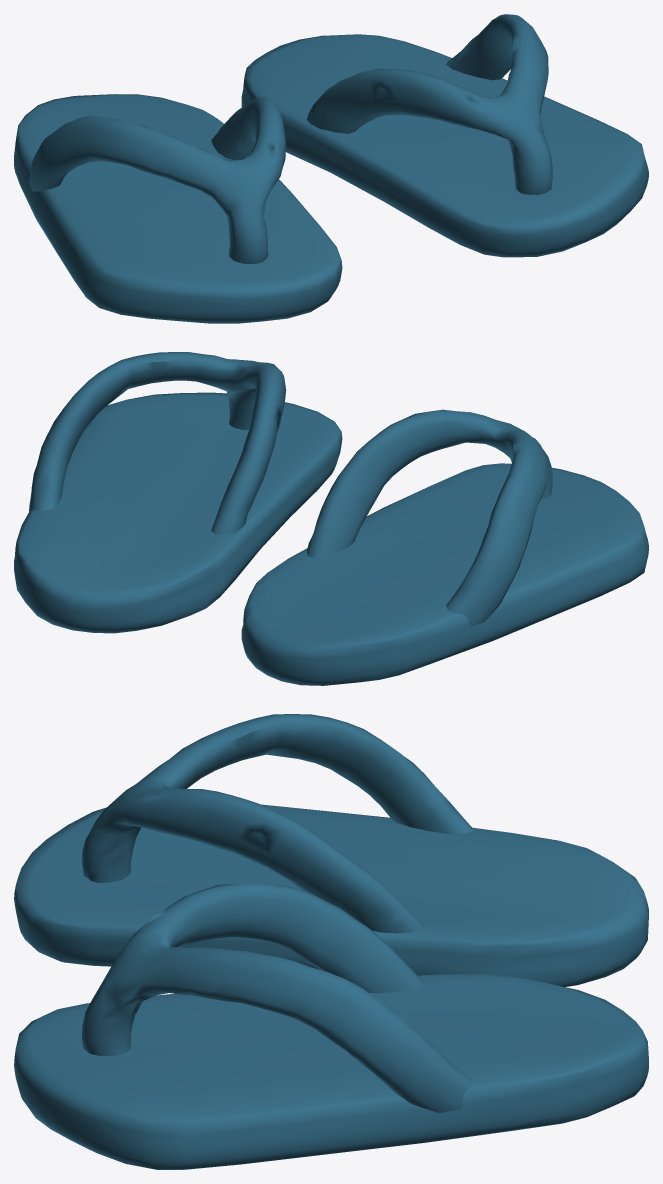
The model's file is Dummy_shoes_001.glb.
3 renders of one model, top to bottom at view 1: azimuth 30°, elevation 25°; view 2: azimuth 150°, elevation 25°; view 3: azimuth 270°, elevation 25°, orthographic. The views are drawn at different scales.
Parts seen in each view (by area): view 1: flip_flop; view 2: flip_flop; view 3: flip_flop.
Boxes of the visible parts, bbox=[...] form: flip_flop: bbox=[14, 14, 648, 323]; flip_flop: bbox=[14, 352, 648, 685]; flip_flop: bbox=[14, 714, 648, 1169].
Size of the model in its own units: 3.08 by 0.7658 by 2.47.
